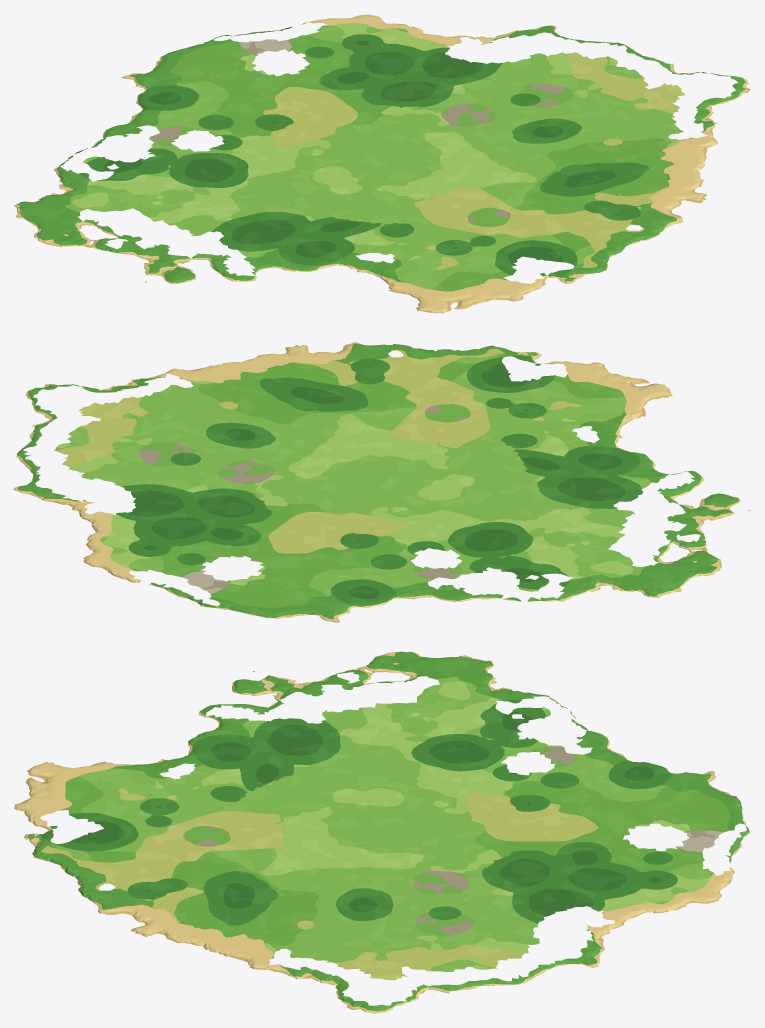
Rendered from Isl-start2-Ground.fbx.
3 renders of one model, top to bottom at view 1: azimuth 30°, elevation 25°; view 2: azimuth 150°, elevation 25°; view 3: azimuth 270°, elevation 25°, orthographic. The views are drawn at different scales.
Visible parts, largest first — view 1: Isl-start2-Ground-c21, Isl-start2-Ground-c22, Isl-start2-Ground-c12, Isl-start2-Ground-c11, Isl-start2-Ground-c02, Isl-start2-Ground-c01, Isl-start2-Ground-c31; view 2: Isl-start2-Ground-c22, Isl-start2-Ground-c21, Isl-start2-Ground-c12, Isl-start2-Ground-c11, Isl-start2-Ground-c02, Isl-start2-Ground-c01, Isl-start2-Ground-c32, Isl-start2-Ground-c13; view 3: Isl-start2-Ground-c21, Isl-start2-Ground-c22, Isl-start2-Ground-c12, Isl-start2-Ground-c11, Isl-start2-Ground-c02, Isl-start2-Ground-c32, Isl-start2-Ground-c31, Isl-start2-Ground-c01.
Boxes of the visible parts, <box> form: Isl-start2-Ground-c21: <box>391,93,717,282</box>; Isl-start2-Ground-c22: <box>229,14,680,161</box>; Isl-start2-Ground-c12: <box>52,41,390,233</box>; Isl-start2-Ground-c11: <box>107,162,547,313</box>; Isl-start2-Ground-c02: <box>14,193,100,245</box>; Isl-start2-Ground-c01: <box>56,238,175,283</box>; Isl-start2-Ground-c31: <box>677,77,750,117</box>; Isl-start2-Ground-c22: <box>14,406,381,598</box>; Isl-start2-Ground-c21: <box>92,342,540,477</box>; Isl-start2-Ground-c12: <box>216,477,668,622</box>; Isl-start2-Ground-c11: <box>381,361,738,548</box>; Isl-start2-Ground-c02: <box>614,553,721,597</box>; Isl-start2-Ground-c01: <box>678,498,750,561</box>; Isl-start2-Ground-c32: <box>16,391,88,461</box>; Isl-start2-Ground-c13: <box>206,598,282,618</box>; Isl-start2-Ground-c21: <box>27,827,381,979</box>; Isl-start2-Ground-c22: <box>379,827,734,979</box>; Isl-start2-Ground-c12: <box>378,678,734,828</box>; Isl-start2-Ground-c11: <box>26,678,381,830</box>; Isl-start2-Ground-c02: <box>379,651,495,681</box>; Isl-start2-Ground-c32: <box>379,976,533,1012</box>; Isl-start2-Ground-c31: <box>312,976,381,1013</box>; Isl-start2-Ground-c01: <box>237,655,381,682</box>.
Size of the model in its own units: 162 by 0.4898 by 139.
